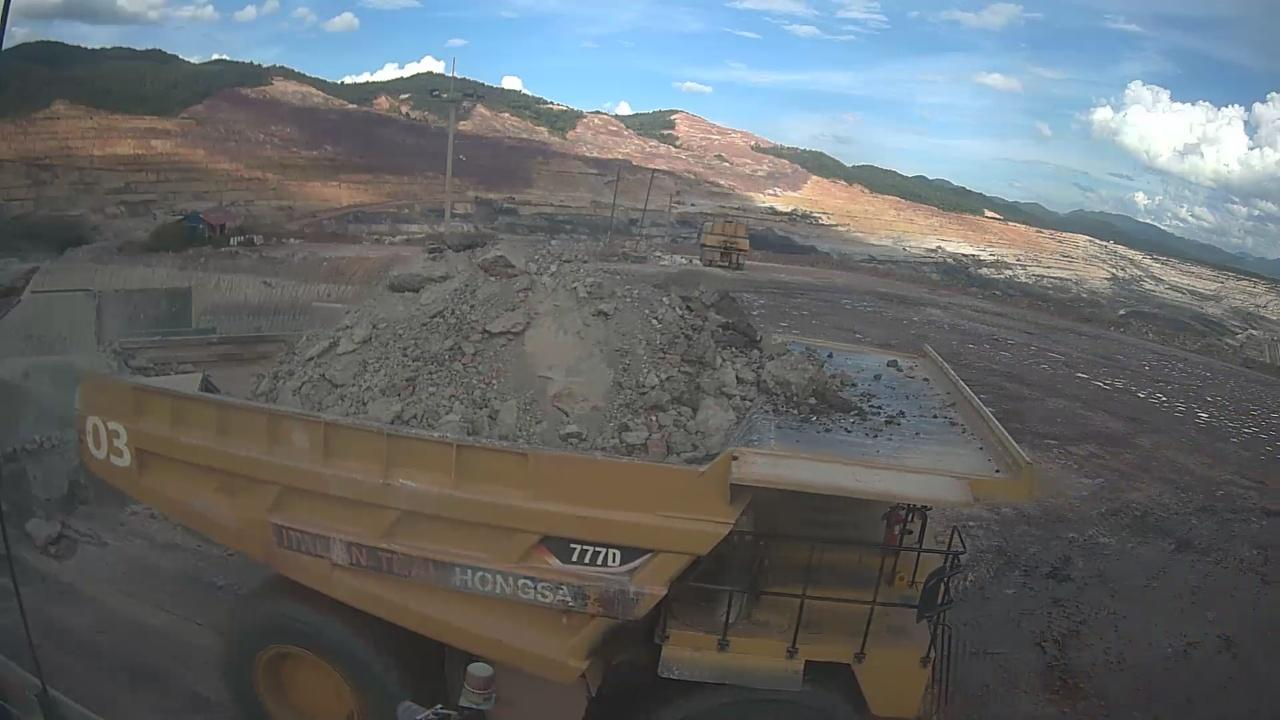company: (268, 524, 643, 622)
full_load: (348, 243, 791, 460)
mining_truck: (70, 222, 1036, 717)
tail_number: (84, 409, 134, 476)
truck_size: (556, 530, 640, 569)
